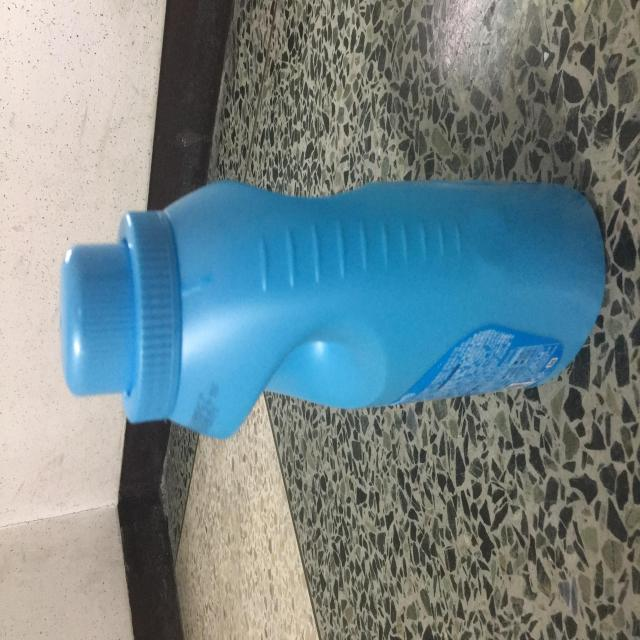bottle: (59, 172, 610, 454)
